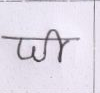i_matra: (49, 29, 67, 63)
